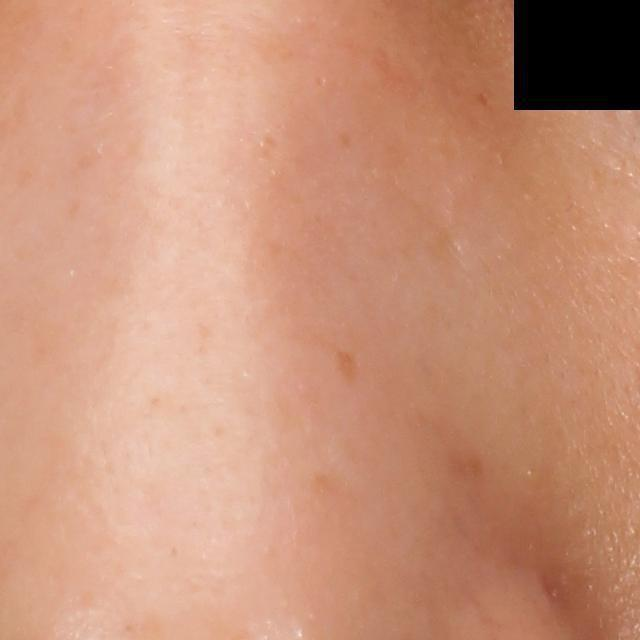melasma: (336, 349, 361, 383)
